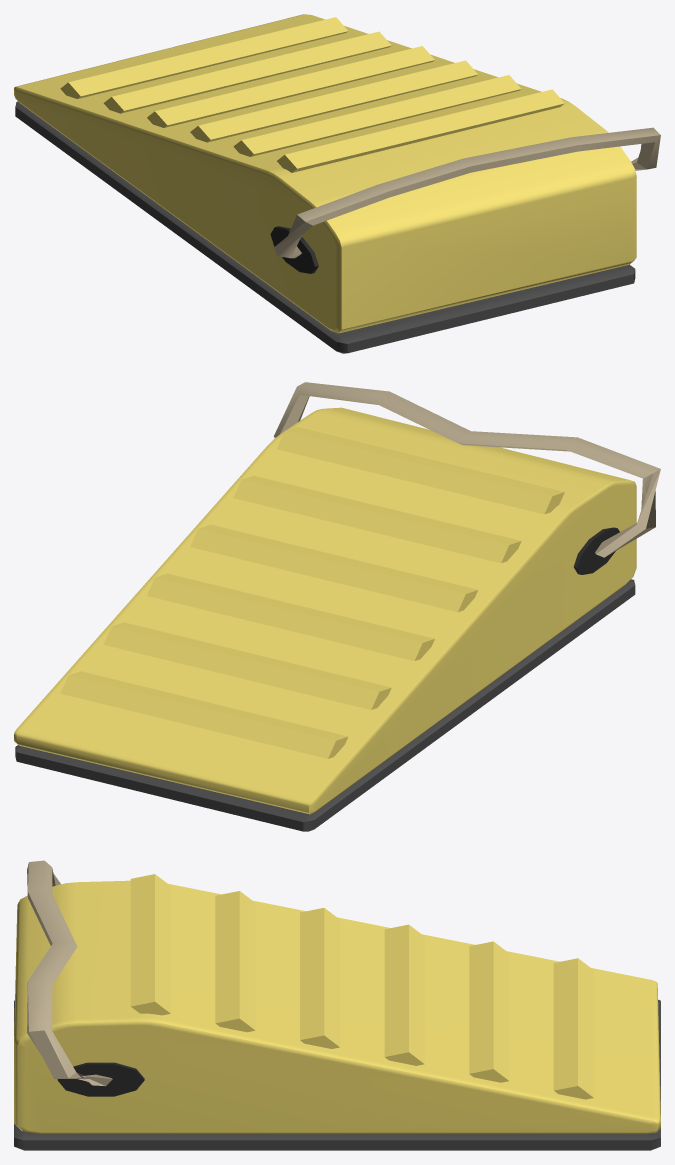
The model's file is door_wedge.glb.
3 renders of one model, top to bottom at view 1: azimuth 30°, elevation 25°; view 2: azimuth 150°, elevation 25°; view 3: azimuth 270°, elevation 25°, orthographic. The views are drawn at different scales.
Visible parts, largest first — view 1: body; view 2: body; view 3: body.
Part boxes in pixels (x1=…): body: x1=14, y1=14, x2=660, y2=353; body: x1=14, y1=382, x2=660, y2=831; body: x1=14, y1=860, x2=660, y2=1150.
Bounding box in the file's own units: 0.0961 × 0.0367 × 0.1456.
